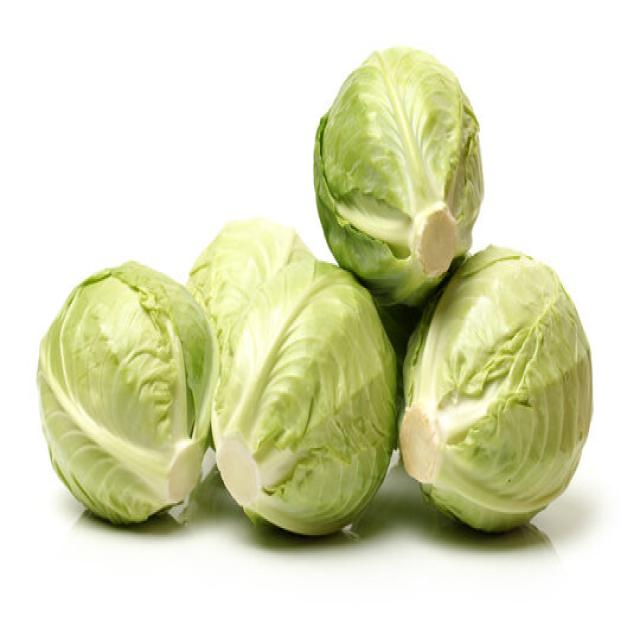Cabbage: (186, 215, 399, 537), (397, 244, 593, 534), (36, 260, 220, 526), (312, 42, 484, 308), (185, 215, 313, 382)
